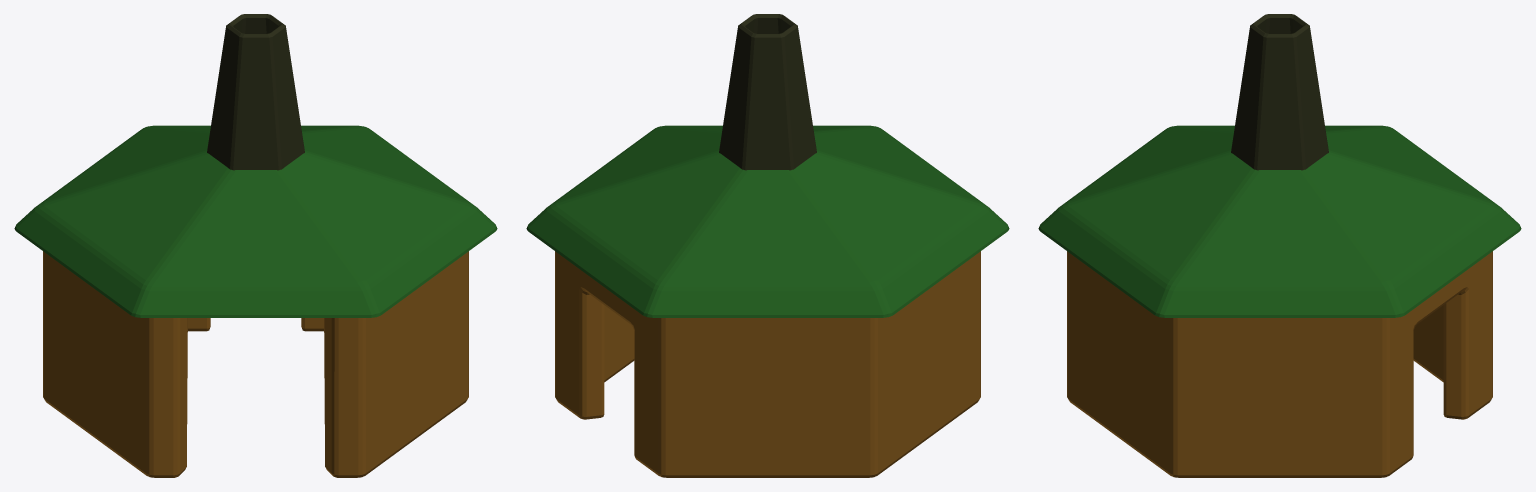
File: house2.fbx
3 renders of one model, left to right at view 1: azimuth 30°, elevation 25°; view 2: azimuth 150°, elevation 25°; view 3: azimuth 270°, elevation 25°, orthographic.
Visible parts, largest first — view 1: house, chimeny; view 2: house, chimeny; view 3: house, chimeny.
Part boxes in pixels (x1=…): house: x1=14, y1=125, x2=497, y2=477; chimeny: x1=207, y1=14, x2=304, y2=170; house: x1=526, y1=125, x2=1009, y2=477; chimeny: x1=719, y1=14, x2=816, y2=170; house: x1=1038, y1=125, x2=1521, y2=477; chimeny: x1=1231, y1=14, x2=1328, y2=170.
Size of the model in its own units: 1571 by 1552 by 1801.
